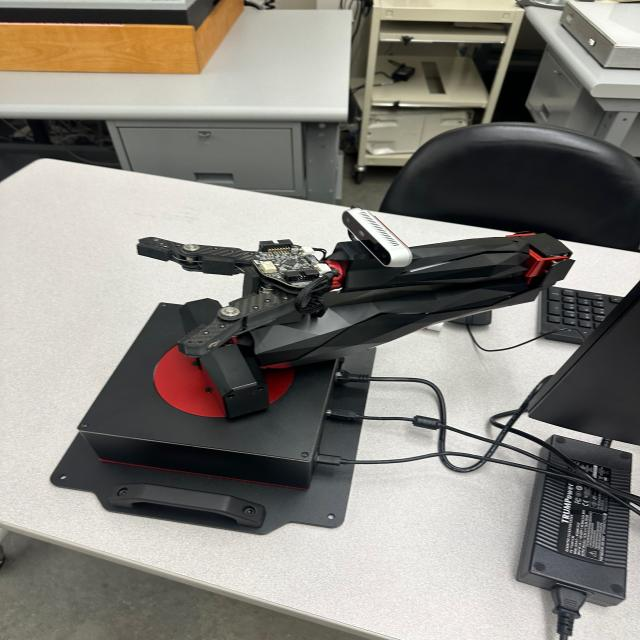monitor: (526, 243, 640, 452)
robotic-arm: (132, 205, 566, 434)
